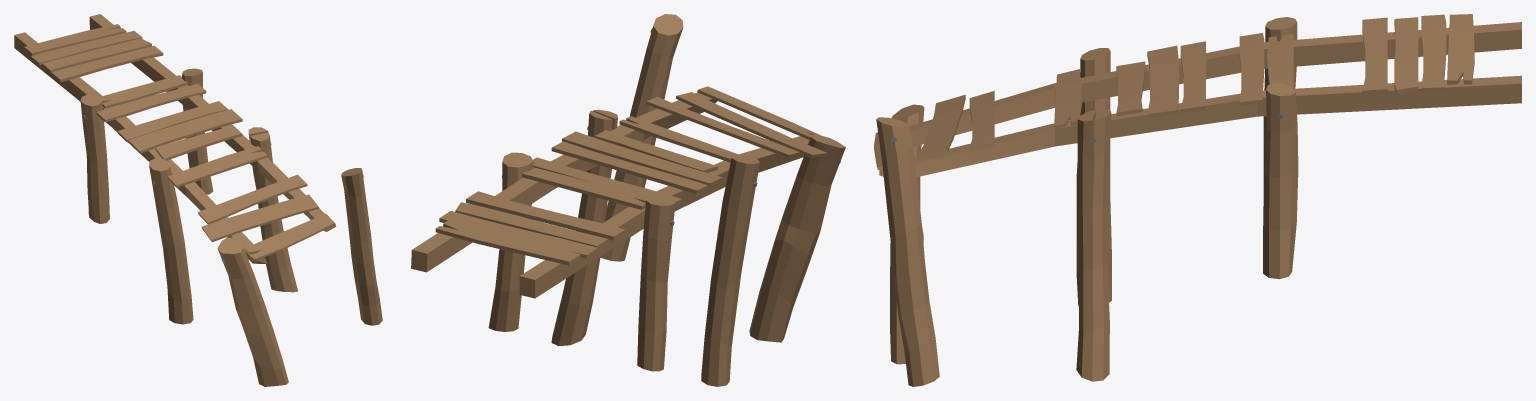
The model's file is QuayBroken.fbx.
The picture shows the model from 3 angles, left to right: view 1: azimuth 30°, elevation 25°; view 2: azimuth 150°, elevation 25°; view 3: azimuth 270°, elevation 25°; orthographic projection. The views are drawn at different scales.
Visible parts, largest first — view 1: QuayBroken_Model; view 2: QuayBroken_Model; view 3: QuayBroken_Model.
Boxes of the visible parts, box(x1,y1,x2,y2) form: QuayBroken_Model: box(14, 14, 382, 386); QuayBroken_Model: box(411, 14, 845, 386); QuayBroken_Model: box(874, 14, 1521, 386).
Size of the model in its own units: 230 by 260 by 502.
